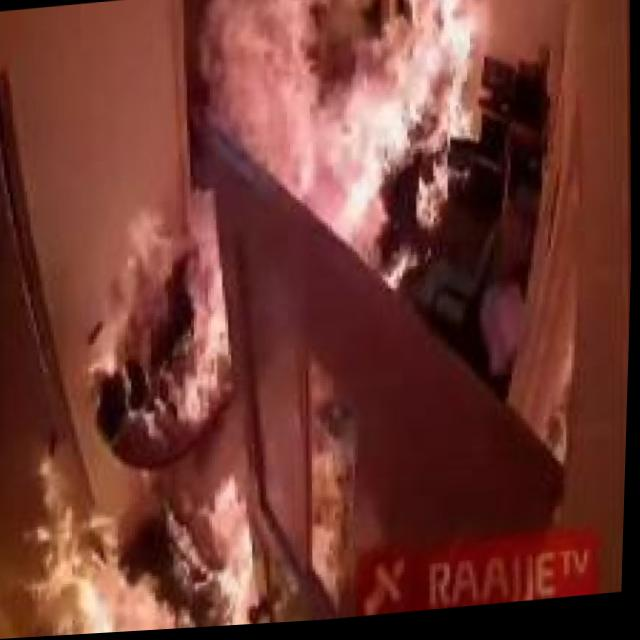fire: (76, 0, 513, 443), (21, 443, 263, 638)
